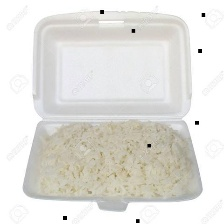foam_box: (17, 7, 206, 213)
